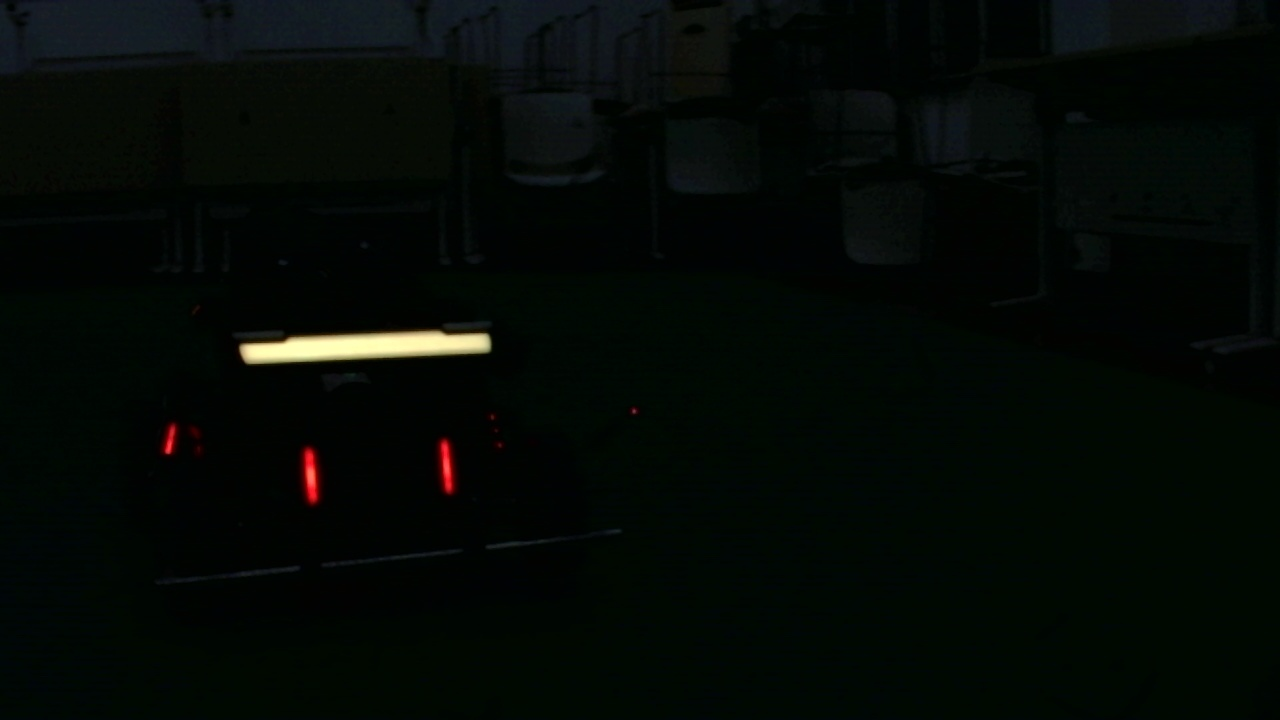lamp: (299, 437, 319, 510), (437, 436, 452, 494), (165, 421, 178, 462)
notpair1: (164, 419, 322, 508)
pair1: (300, 437, 455, 515)
